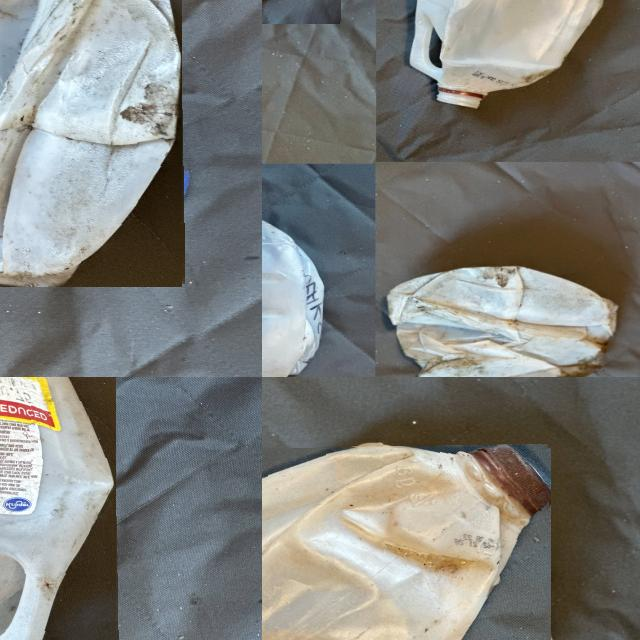milk-jug: (262, 443, 552, 640), (0, 0, 183, 287), (0, 377, 117, 640), (383, 264, 620, 377), (408, 0, 616, 103), (262, 209, 325, 377)
